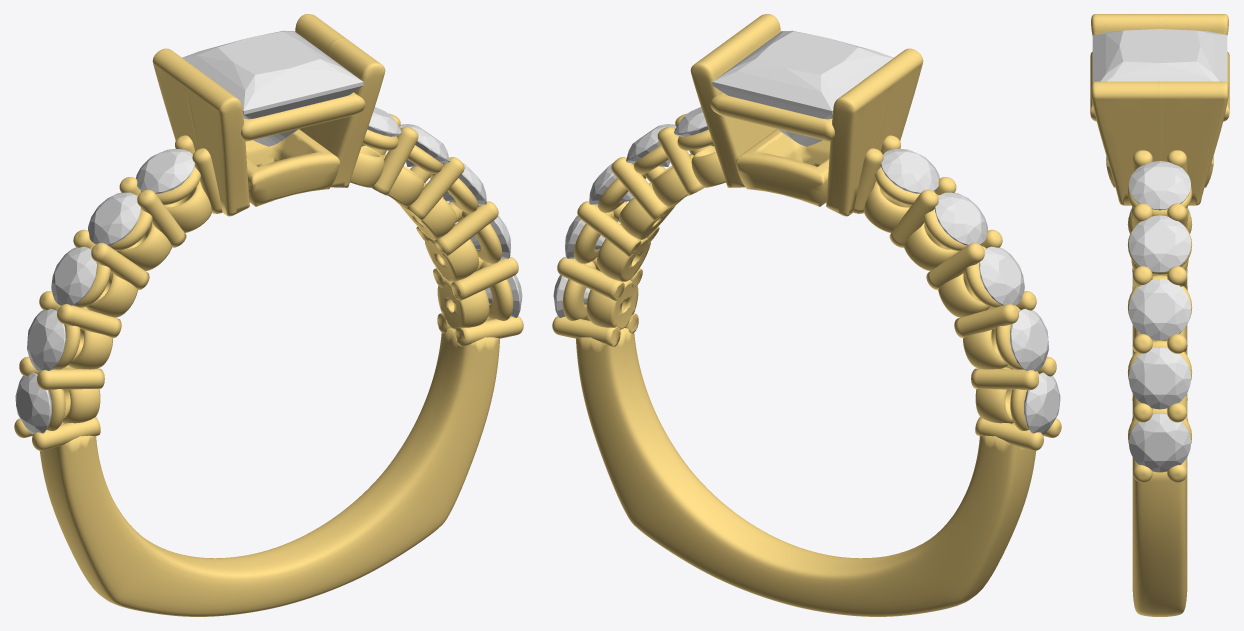
The model's file is diamond-princess-yellowgold-halfmoonbezel-europeanshank-11stone.glb.
3 views of the same model, side by side, from view 1: azimuth 30°, elevation 25°; view 2: azimuth 150°, elevation 25°; view 3: azimuth 270°, elevation 25° (orthographic). The views are drawn at different scales.
Parts seen in each view (by area): view 1: metal, stone, side.004, side.003, side.005, side.002, side, side.007; view 2: metal, stone, side.004, side.003, side.005, side.002, side, side.007; view 3: metal, stone, side.009, side.008, side.007, side.001, side.006.
Part boxes in pixels (x1,y1,x2,y2): metal: (14,14,523,616); stone: (182,30,363,146); side.004: (88,192,140,245); side.003: (51,246,96,305); side.005: (136,149,194,193); side.002: (27,308,66,371); side: (15,372,51,434); side.007: (399,124,449,166); metal: (552,14,1061,616); stone: (712,30,893,146); side.004: (935,192,987,245); side.003: (979,246,1024,305); side.005: (881,149,939,193); side.002: (1009,308,1048,371); side: (1024,372,1060,434); side.007: (626,124,676,166); metal: (1090,14,1229,616); stone: (1092,29,1227,82); side.009: (1129,347,1190,409); side.008: (1129,279,1190,340); side.007: (1129,215,1190,272); side.001: (1129,413,1190,472); side.006: (1129,161,1190,210).
Size of the model in its own units: 22.23 by 23.65 by 5.6.
